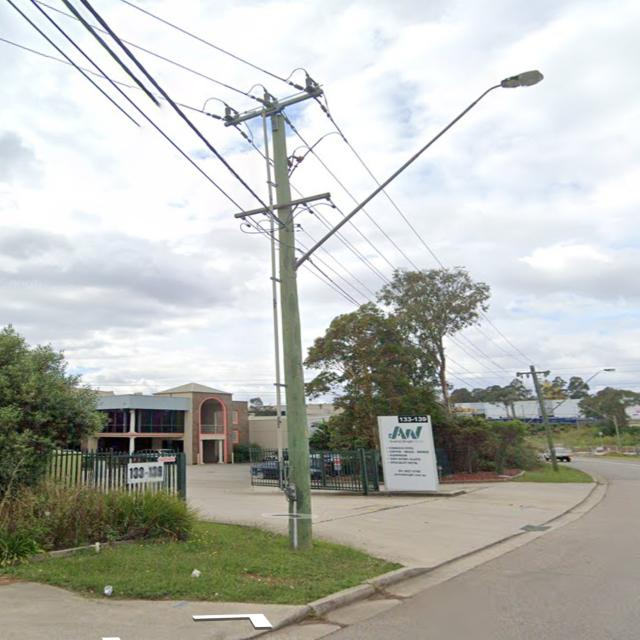HV-transmission: (202, 68, 333, 144)
crossarm: (223, 88, 322, 127), (235, 192, 329, 217), (516, 371, 550, 376)
streetlight: (300, 66, 544, 269), (551, 368, 615, 412)
timber-pole: (264, 102, 312, 546), (530, 366, 562, 472), (612, 415, 625, 456)
